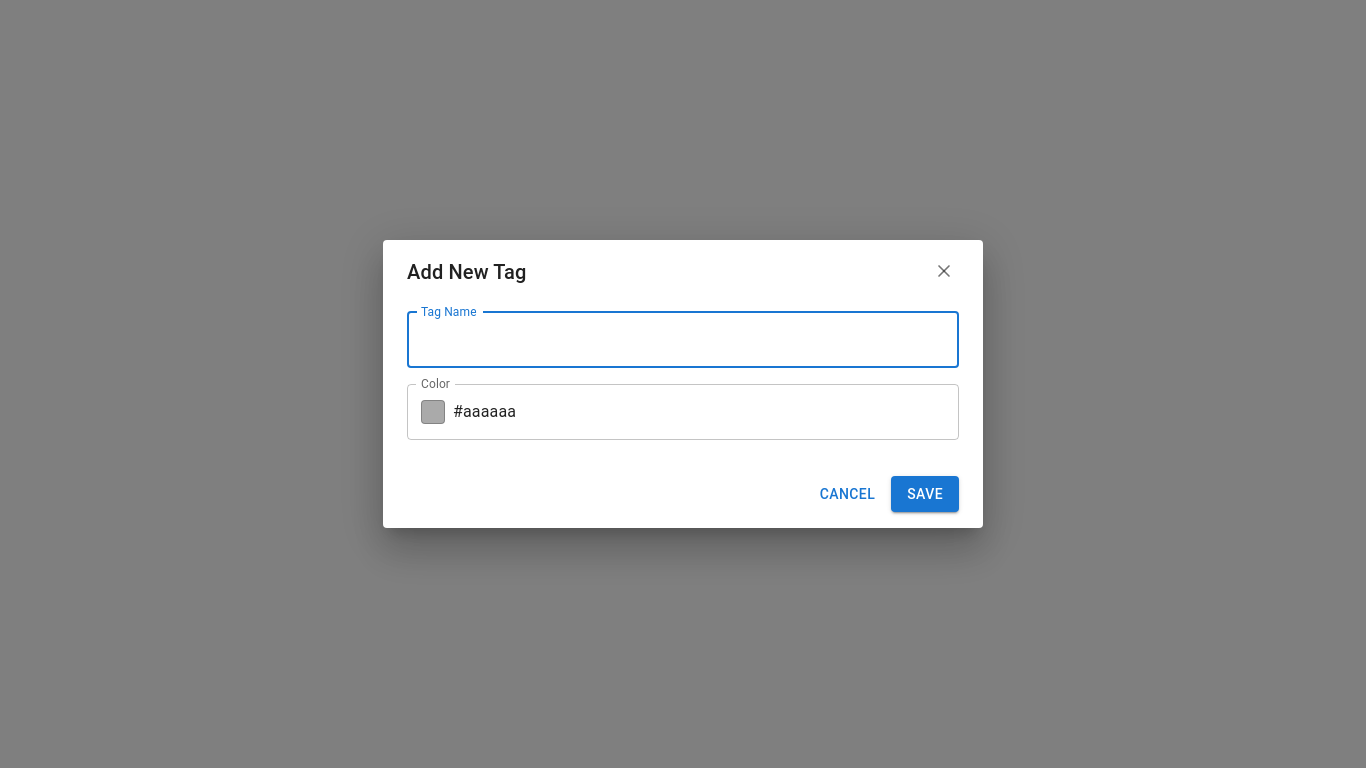
it: TagFormDialog › shows the server's message when saving fails
Step 1. Type "Spicy" into the field labelled "Tag Name" → (683, 340), box [407, 312, 959, 368]
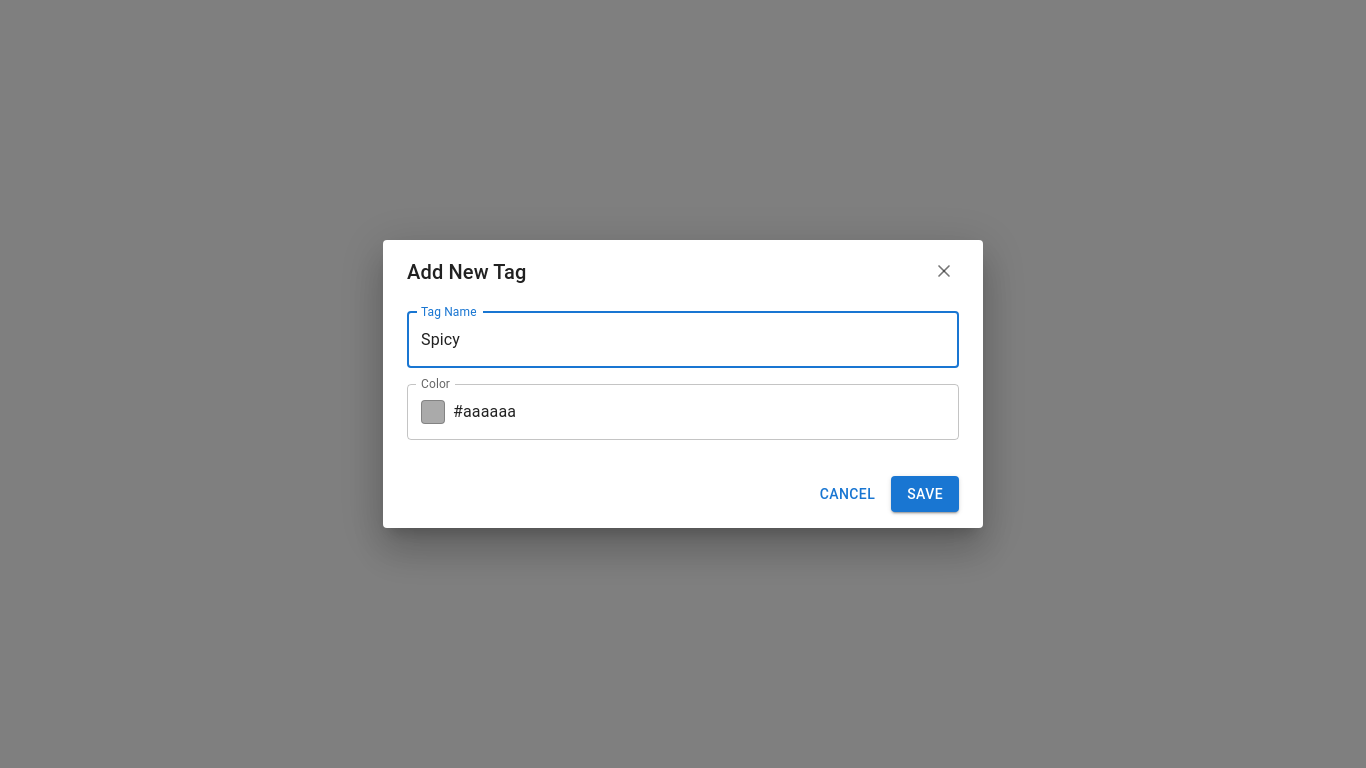
Step 2. Click the button "Save" → (925, 494), box [891, 476, 959, 512]
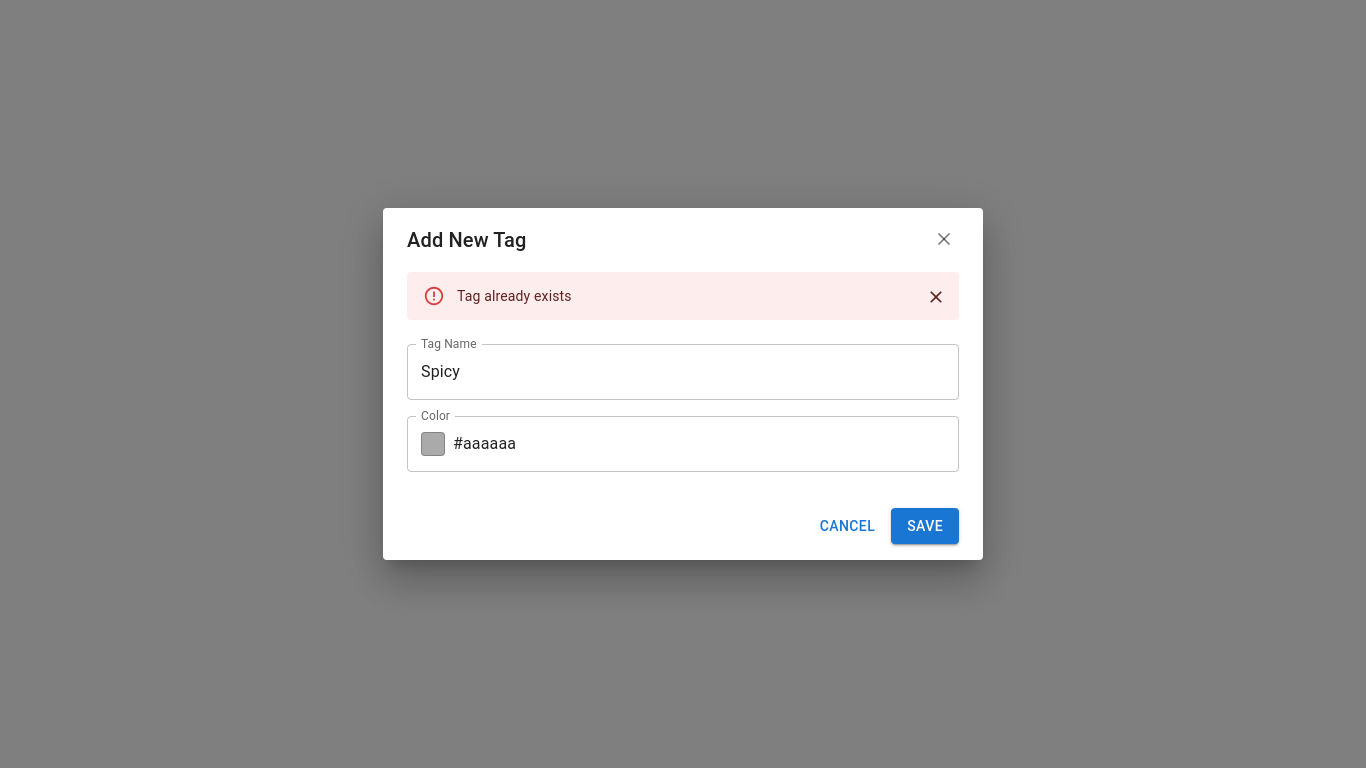
Check: the text "Tag already exists" is shown, box [457, 288, 572, 304]
